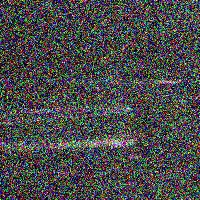scratches: (1, 132, 147, 160), (1, 102, 139, 128), (44, 75, 187, 88), (5, 166, 77, 176)
